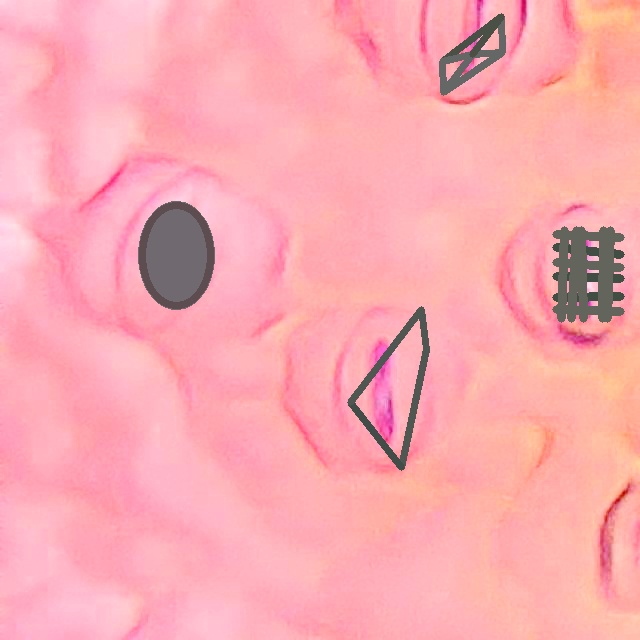open: (347, 306, 429, 470), (137, 202, 214, 308), (552, 226, 624, 322), (439, 13, 505, 95)
